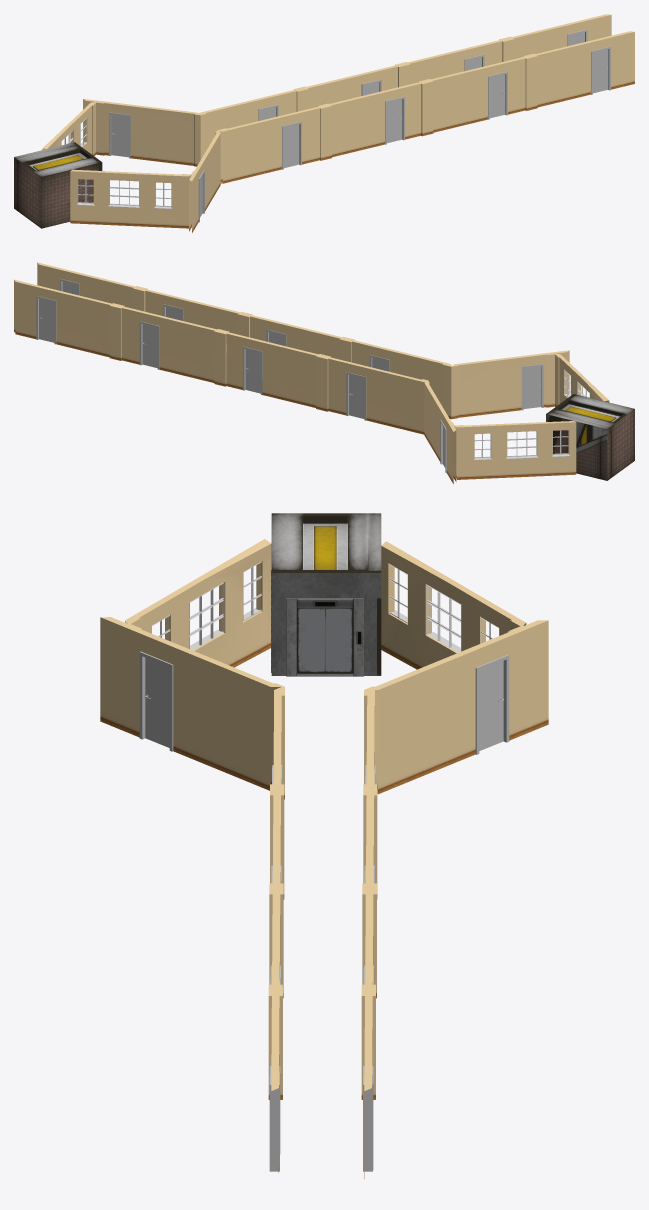
File: Office with elevator.fbx
3 views of the same model, one above another, from view 1: azimuth 30°, elevation 25°; view 2: azimuth 150°, elevation 25°; view 3: azimuth 270°, elevation 25° (orthographic). The views are drawn at different scales.
Visible parts, largest first — view 1: Sweep, Room.028, Room.016, Room.018, Room.020, Room.014, Room.004, Room.008, Room.001, Room.010, Room.002, Room.025 (+12 smaller); view 2: Sweep, Room.005, Room.001, Room.008, Room.010, Room.025, Room.002, Room.016, Room.018, Room.020, Room.014, Room.004 (+12 smaller); view 3: Room.004, Room.025, Sweep, Room.028, Room.005, Doors.010, Doors.011, BASE_2, L_2, R_2, Windows.002, Windows.003 (+3 smaller).
Part boxes in pixels (x1,y1,x2,y2): Sweep: (14,142,102,228); Room.028: (70,169,191,228); Room.016: (218,106,324,183); Room.018: (527,31,634,107); Room.020: (424,56,531,132); Room.014: (322,81,428,157); Room.004: (83,99,198,165); Room.008: (504,14,611,58); Room.001: (195,89,301,149); Room.010: (401,39,507,84); Room.002: (299,64,404,108); Room.025: (189,131,220,232); Sweep: (546,394,634,480); Room.005: (454,421,576,479); Room.001: (324,356,428,434); Room.008: (14,279,118,357); Room.010: (117,305,221,382); Room.025: (452,350,569,417); Room.002: (221,330,324,407); Room.016: (348,339,451,405); Room.018: (37,262,141,308); Room.020: (141,288,244,334); Room.014: (244,313,348,359); Room.004: (424,381,456,483); Room.004: (375,620,548,794); Room.025: (100,617,280,790); Sweep: (271,513,381,675); Room.028: (125,539,271,667); Room.005: (381,541,526,669); Doors.010: (475,654,509,754); Doors.011: (139,651,173,751); BASE_2: (286,598,363,676); L_2: (325,608,353,672); R_2: (297,608,324,672); Windows.002: (389,564,499,652); Windows.003: (152,561,261,650).
Size of the model in its own units: 3574 by 304 by 1170.
